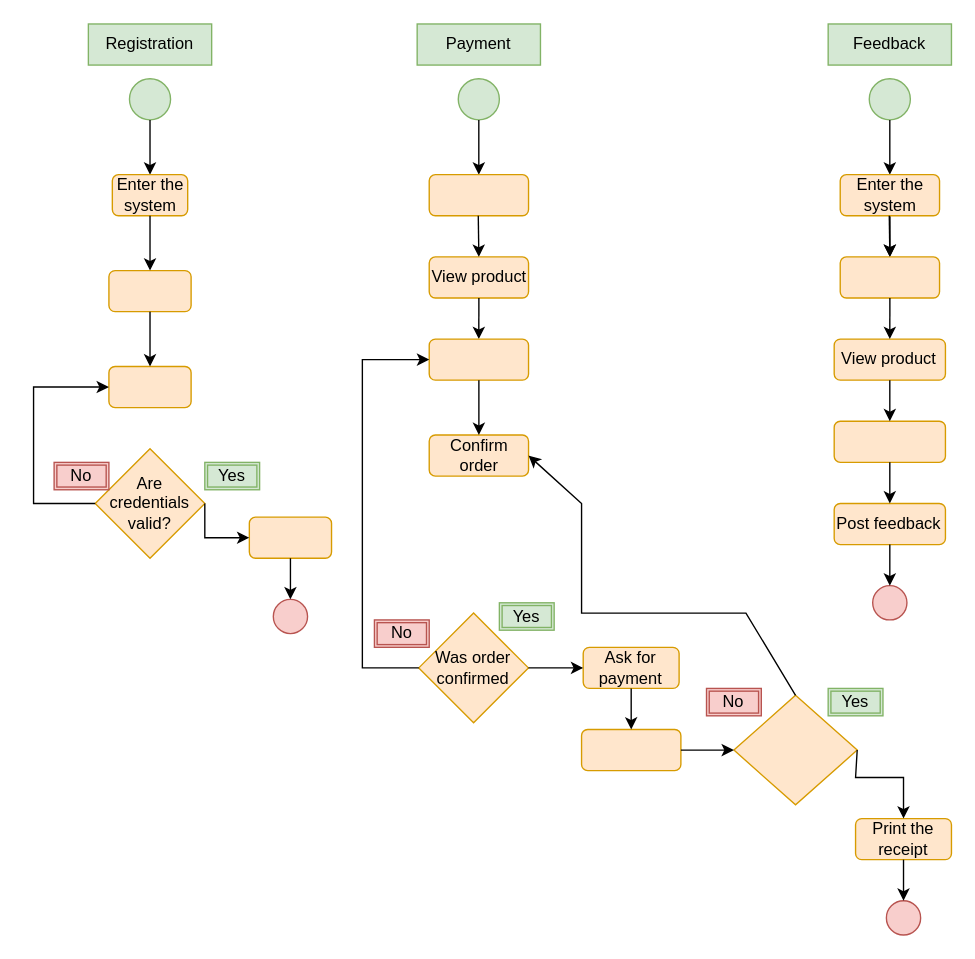
This 975x959 diagram has some shape labels left out. Each missing label, with the centre of its shape:
"Add credentials" goes at (x=149, y=386).
"Add feedback?" goes at (x=889, y=441).
"Add to cart" goes at (x=478, y=359).
"Is payment valid?" goes at (x=795, y=749).
"Login" goes at (x=290, y=537).
"Payment process" goes at (x=630, y=749).
"Register" goes at (x=149, y=290).
"Search for product" goes at (x=889, y=277).
"Search for products" goes at (x=478, y=194).
